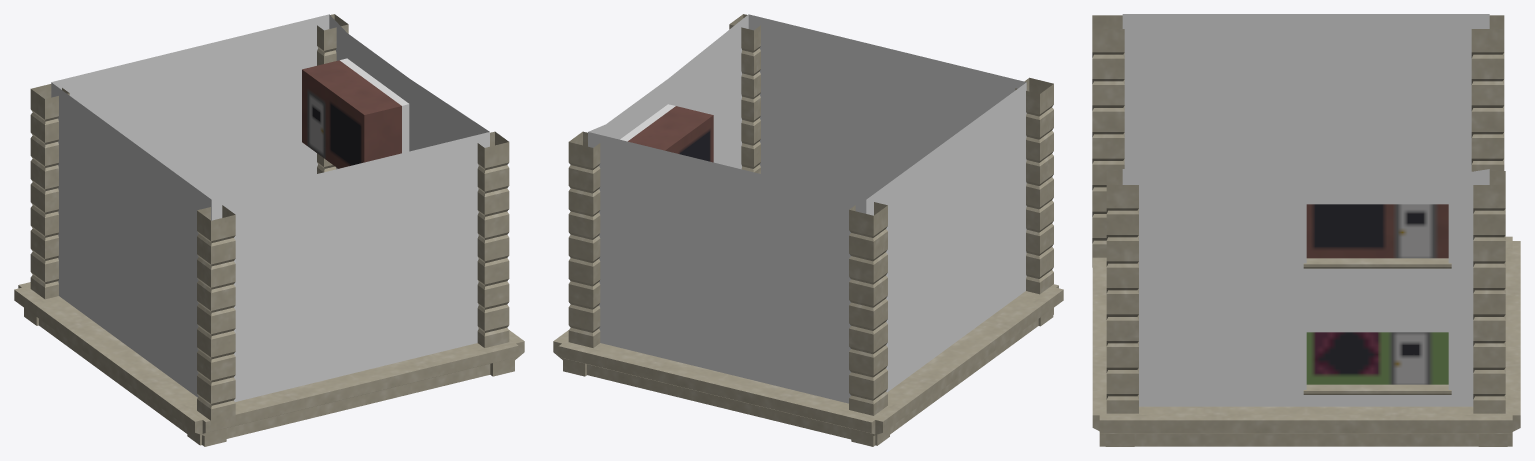
The model's file is Building_Modular_Piece.fbx.
3 views of the same model, side by side, from view 1: azimuth 30°, elevation 25°; view 2: azimuth 150°, elevation 25°; view 3: azimuth 270°, elevation 25° (orthographic). The views are drawn at different scales.
Visible parts, largest first — view 1: Building_Modular_Piece; view 2: Building_Modular_Piece; view 3: Building_Modular_Piece.
Part boxes in pixels (box(x1,y1,x2,y2)): Building_Modular_Piece: box(14, 14, 524, 446); Building_Modular_Piece: box(553, 14, 1063, 446); Building_Modular_Piece: box(1092, 14, 1520, 446).
Size of the model in its own units: 1457 by 995 by 1435.
